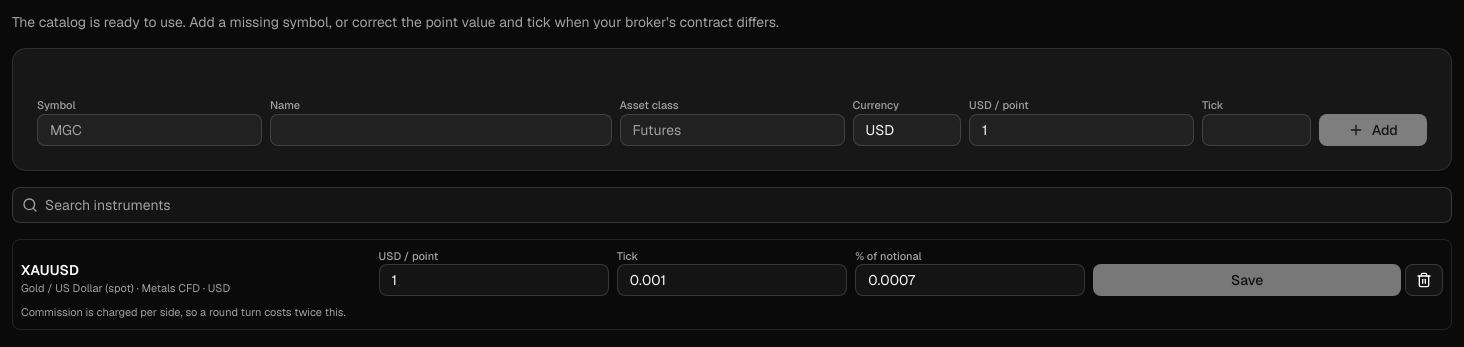
Test: finding a symbol › says so rather than showing an empty page
Type "zzz" into the field labelled "Search instruments" at (732, 204), box [12,186,1452,222]
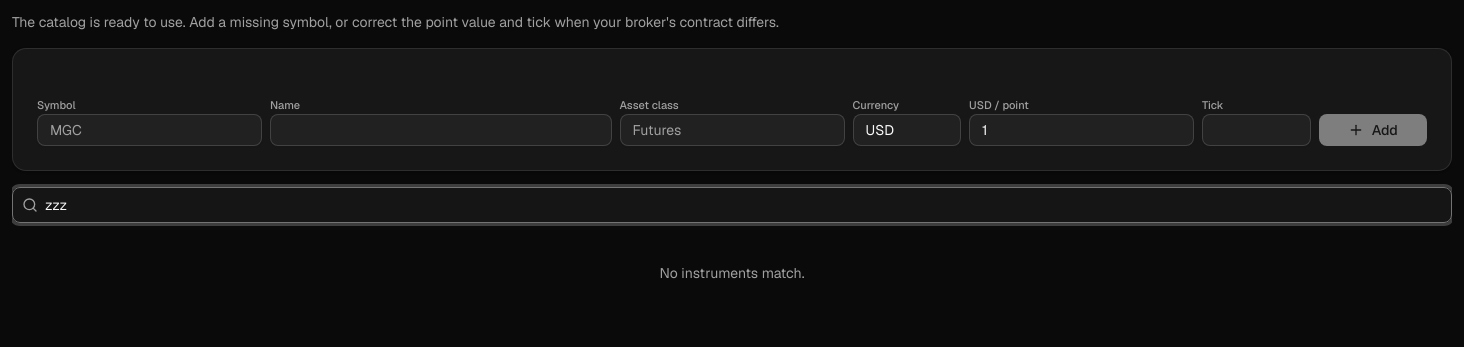
Expected: the text "No instruments match." is shown, [660,264,805,282]
